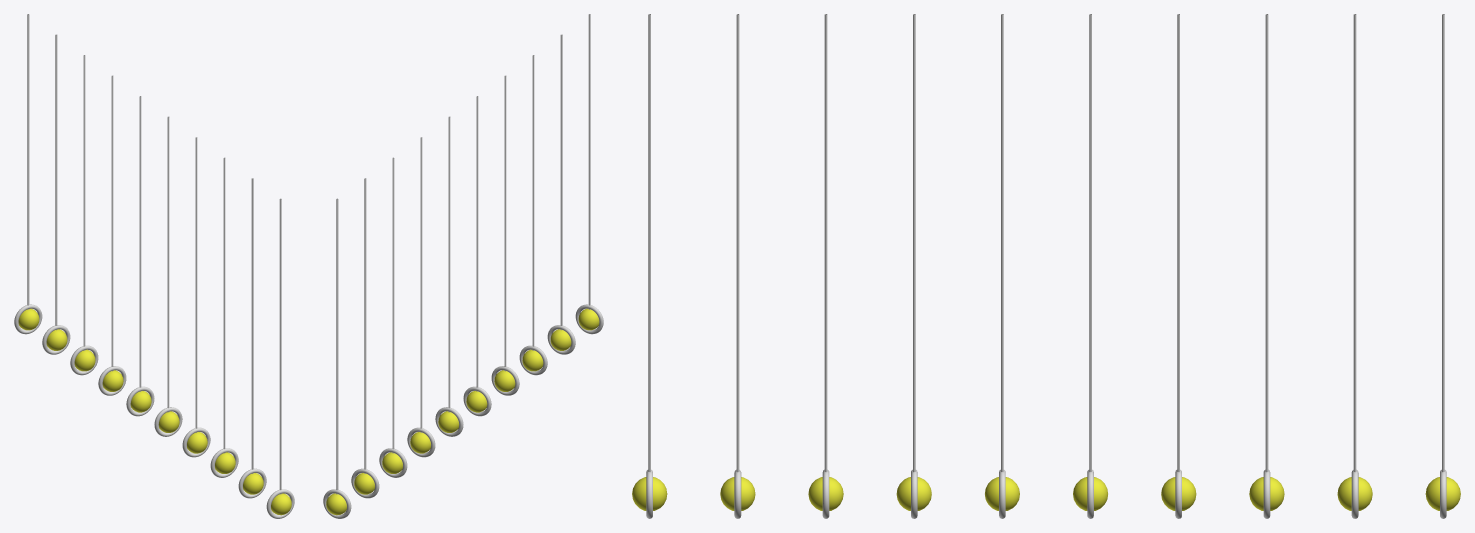
File: Pendullum.fbx
3 views of the same model, side by side, from view 1: azimuth 30°, elevation 25°; view 2: azimuth 150°, elevation 25°; view 3: azimuth 270°, elevation 25° (orthographic). The views are drawn at different scales.
Parts seen in each view (by area): view 1: Circle.004, Circle.001, Circle.008, Circle.009, Circle.007, Circle, Circle.003, Circle.005, Circle.006, Circle.002; view 2: Circle.005, Circle.008, Circle, Circle.001, Circle.002, Circle.003, Circle.004, Circle.006, Circle.009, Circle.007; view 3: Circle.001, Circle.008, Circle.002, Circle.007, Circle.003, Circle.006, Circle, Circle.004, Circle.005, Circle.009.
Boxes of the visible parts, <box> form: Circle.004: <box>154,116,182,436</box>; Circle.001: <box>238,178,266,498</box>; Circle.008: <box>42,34,70,354</box>; Circle.009: <box>14,14,42,334</box>; Circle.007: <box>70,55,98,375</box>; Circle: <box>266,198,294,518</box>; Circle.003: <box>182,137,210,457</box>; Circle.005: <box>126,96,154,416</box>; Circle.006: <box>98,75,126,395</box>; Circle.002: <box>210,157,238,477</box>; Circle.005: <box>435,116,463,436</box>; Circle.008: <box>351,178,379,498</box>; Circle: <box>575,14,603,334</box>; Circle.001: <box>547,34,575,354</box>; Circle.002: <box>519,55,547,375</box>; Circle.003: <box>491,75,519,395</box>; Circle.004: <box>463,96,491,416</box>; Circle.006: <box>407,137,435,457</box>; Circle.009: <box>323,198,351,518</box>; Circle.007: <box>379,157,407,477</box>; Circle.001: <box>720,14,755,518</box>; Circle.008: <box>1337,14,1372,518</box>; Circle.002: <box>808,14,843,518</box>; Circle.007: <box>1249,14,1284,518</box>; Circle.003: <box>896,14,931,518</box>; Circle.006: <box>1161,14,1196,518</box>; Circle: <box>632,14,667,518</box>; Circle.004: <box>985,14,1019,518</box>; Circle.005: <box>1073,14,1107,518</box>; Circle.009: <box>1425,14,1460,518</box>.
Size of what is drawn, in the model's own units: 283 by 3142 by 4700.
